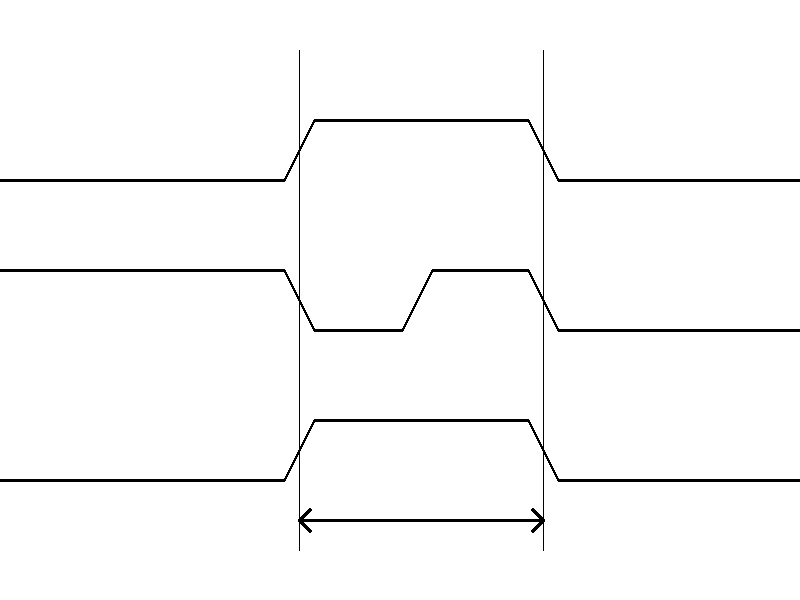double_arrow: (299, 505, 543, 535)
